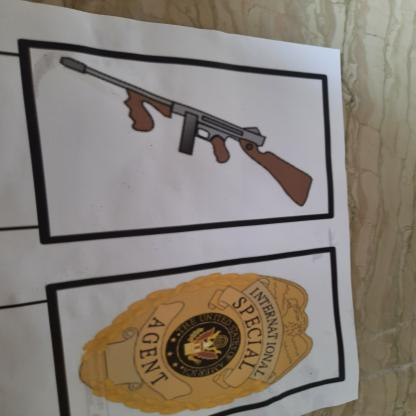Bootlegger: (45, 48, 326, 213)
G-man: (69, 270, 323, 416)
